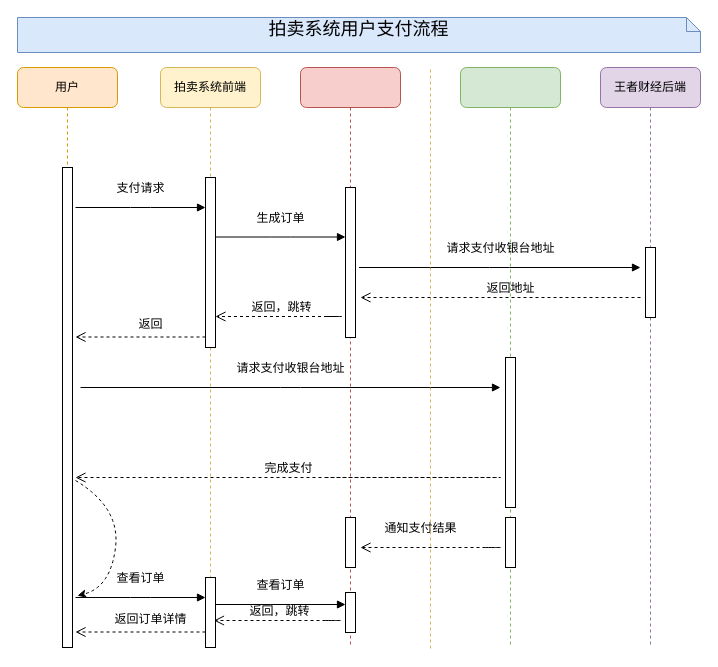
Some shapes in this 718 by 667 pixel diagram are drawn without their labels. The box of each missing label's shape, as (x1, y1, x2, y2) in pixels:
拍卖系统后端: (300, 66, 400, 648)
王者财经前端: (460, 66, 560, 648)
